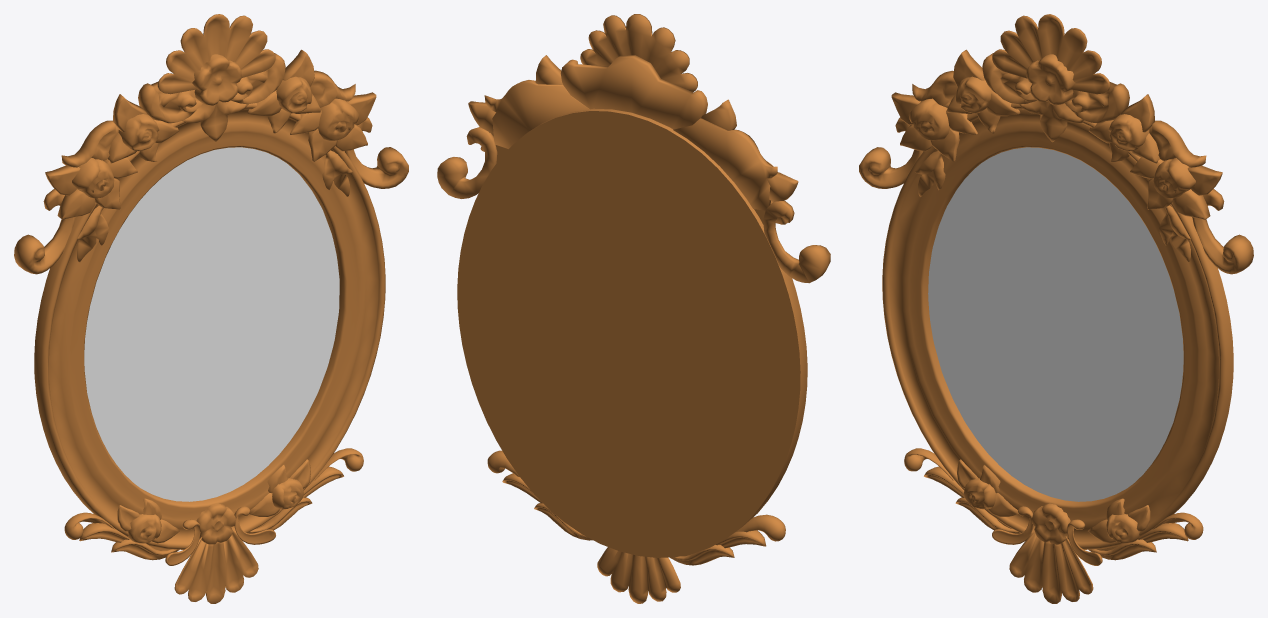
3 views of the same model, side by side, from view 1: azimuth 30°, elevation 25°; view 2: azimuth 150°, elevation 25°; view 3: azimuth 330°, elevation 25° (orthographic).
Visible parts, largest first — view 1: Glass_low, Frame_low, Fan_Top_low, Curve_Top_low, Fan_Bottom_low, Backplate_Top_01_low, Rose_Top_02_low, Backplate_Top_02_low, Rose_Top_01_low, Flower_Top_low, Leaves_Small_Top_low, Rose_Bottom_low (+17 smaller); view 2: Frame_low, Backplate_Top_02_low, Backplate_Top_01_low, Curve_Top_low, Fan_Top_low, Fan_Bottom_low, Leaf_Top_04_low, Curve_Bottom_04_low, Leaf_Top_08_low, Curve_Bottom_01_low, Curve_Bottom_02_low; view 3: Glass_low, Frame_low, Fan_Top_low, Curve_Top_low, Fan_Bottom_low, Backplate_Top_01_low, Rose_Top_02_low, Backplate_Top_02_low, Rose_Top_01_low, Leaves_Small_Top_low, Flower_Top_low, Rose_Bottom_low (+17 smaller).
Part boxes in pixels (<box>): Glass_low: <box>84,147,339,501</box>; Frame_low: <box>34,103,385,549</box>; Fan_Top_low: <box>157,14,275,94</box>; Curve_Top_low: <box>14,117,408,274</box>; Fan_Bottom_low: <box>174,528,258,603</box>; Backplate_Top_01_low: <box>138,53,285,123</box>; Rose_Top_02_low: <box>72,98,359,198</box>; Backplate_Top_02_low: <box>61,70,355,167</box>; Rose_Top_01_low: <box>118,76,312,151</box>; Flower_Top_low: <box>192,54,241,105</box>; Leaves_Small_Top_low: <box>77,150,352,262</box>; Rose_Bottom_low: <box>128,478,303,543</box>; Frame_low: <box>457,108,807,557</box>; Backplate_Top_02_low: <box>484,80,777,210</box>; Backplate_Top_01_low: <box>560,55,707,129</box>; Curve_Top_low: <box>437,127,830,283</box>; Fan_Top_low: <box>580,14,697,91</box>; Fan_Bottom_low: <box>597,547,680,603</box>; Leaf_Top_04_low: <box>535,55,736,130</box>; Curve_Bottom_04_low: <box>487,450,785,541</box>; Leaf_Top_08_low: <box>468,101,798,201</box>; Curve_Bottom_01_low: <box>534,503,734,565</box>; Curve_Bottom_02_low: <box>502,473,766,548</box>; Glass_low: <box>928,147,1183,501</box>; Frame_low: <box>882,103,1233,549</box>; Fan_Top_low: <box>992,14,1110,94</box>; Curve_Top_low: <box>859,117,1253,274</box>; Fan_Bottom_low: <box>1009,530,1093,603</box>; Backplate_Top_01_low: <box>982,53,1129,123</box>; Rose_Top_02_low: <box>908,98,1195,198</box>; Backplate_Top_02_low: <box>912,70,1206,167</box>; Rose_Top_01_low: <box>955,76,1149,151</box>; Leaves_Small_Top_low: <box>915,151,1190,262</box>; Flower_Top_low: <box>1026,54,1075,105</box>; Rose_Bottom_low: <box>964,478,1139,543</box>.
Size of the model in its own units: 1.37 by 2 by 0.1115.
